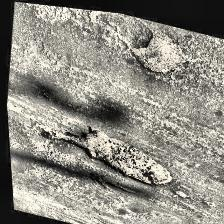pothole: (20, 94, 188, 198)
